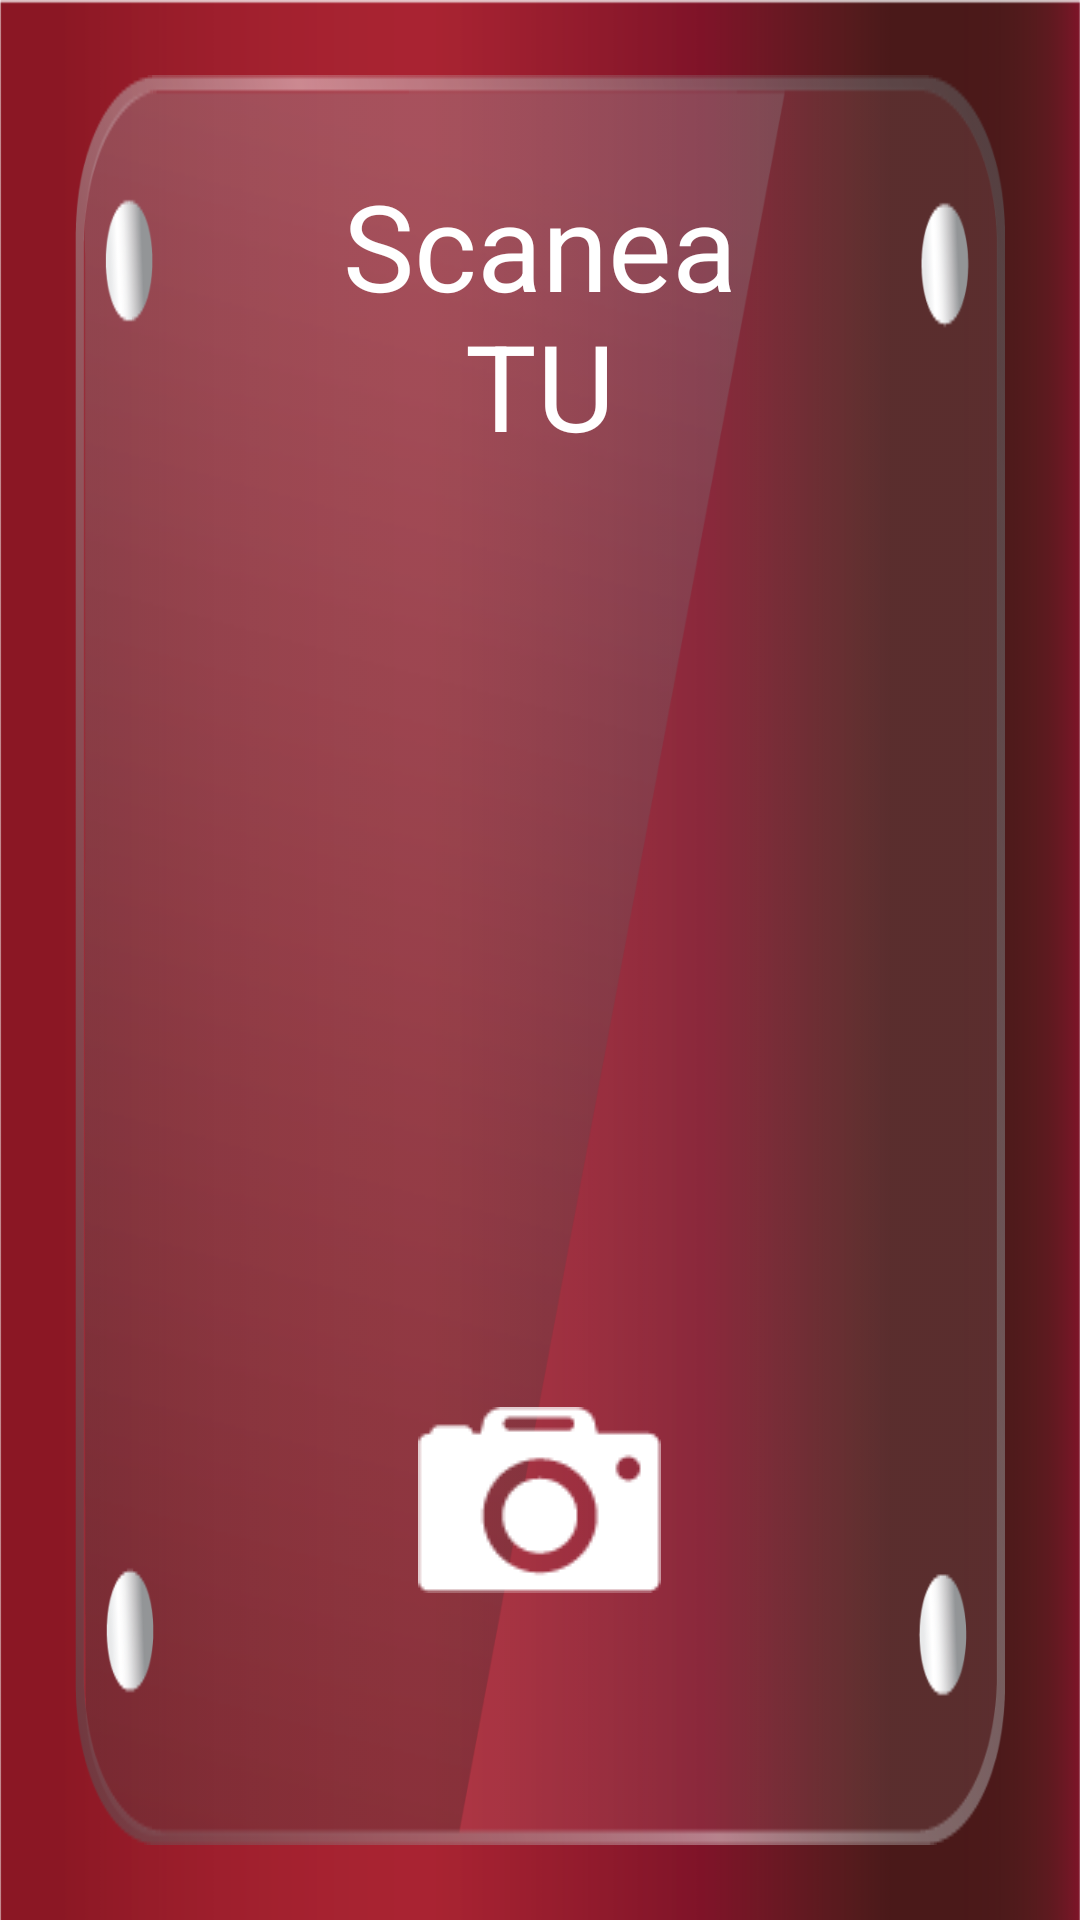

Where to tap for icons on this 1080w x 1920h app screen, as [x,y]:
camera: [539,1500]
